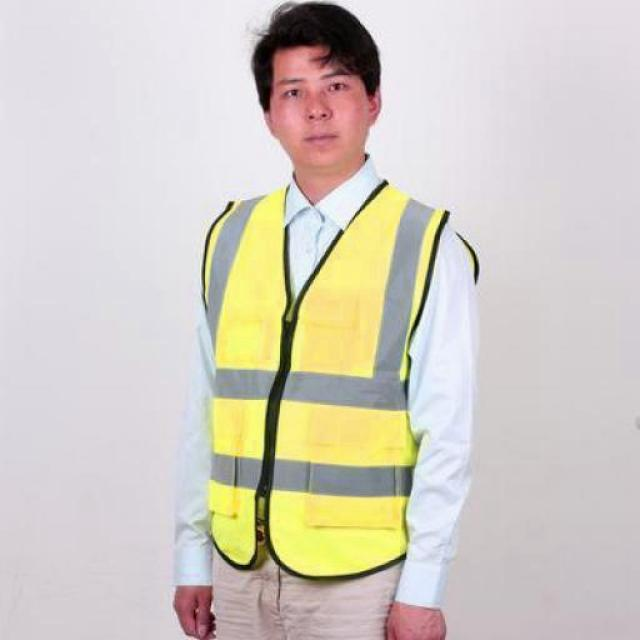face_nomask: (274, 72, 364, 160)
hand_noglove: (162, 572, 226, 640)
head_nohelmet: (251, 0, 389, 65)
person: (150, 0, 481, 640)
vest: (194, 180, 461, 574)
